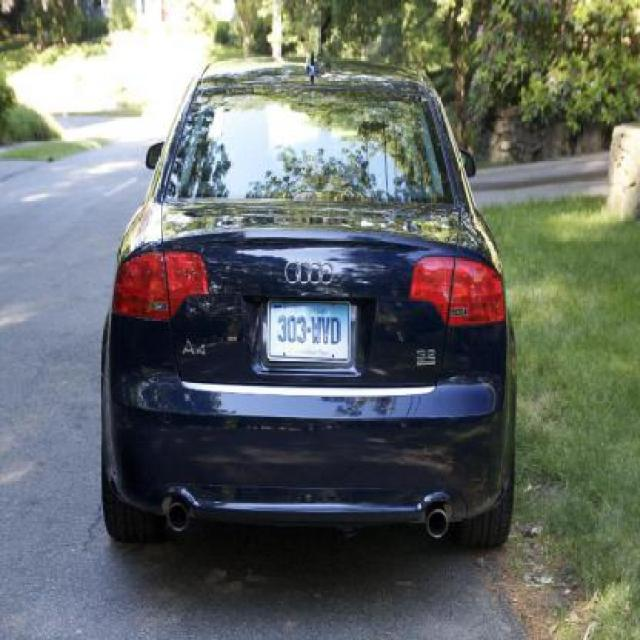License-Plates: (260, 294, 360, 370)
